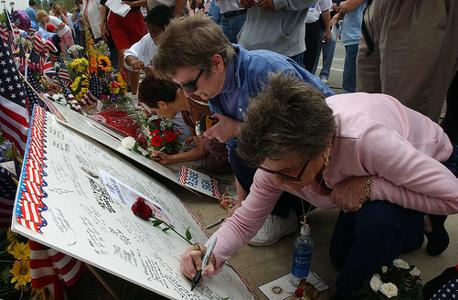person: (185, 73, 456, 294)
